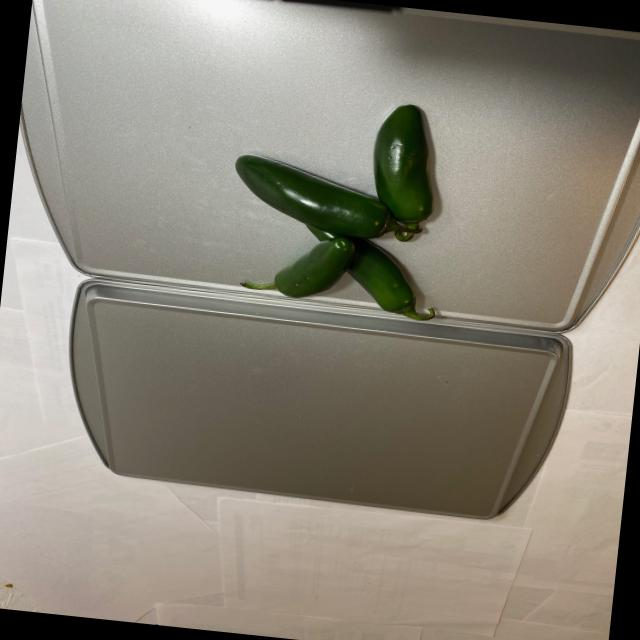chilli: (213, 84, 470, 328)
